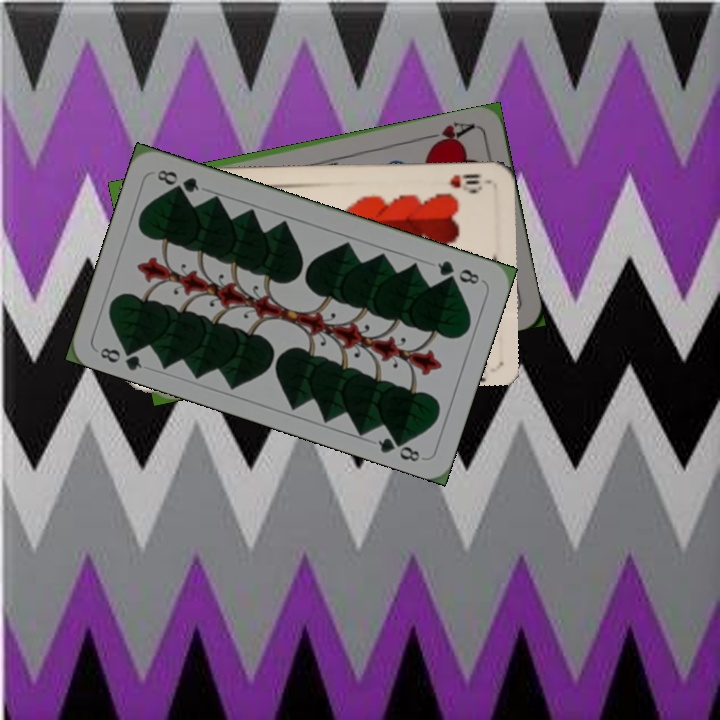G8: (433, 256, 485, 287), (96, 341, 145, 373)
H10: (445, 169, 490, 194)
HA: (420, 118, 477, 151)
